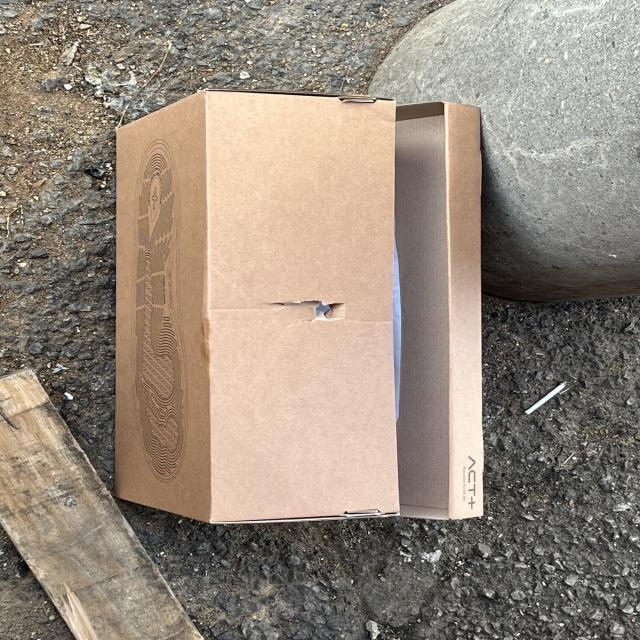damaged: (300, 292, 349, 337)
